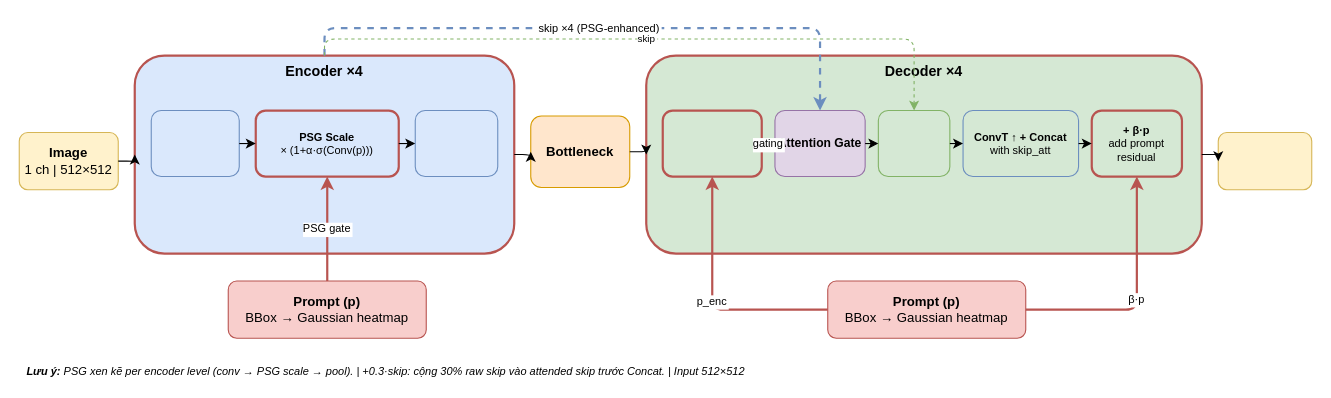
Image size: 1331x398. Some labels were removed from this diagram. The centre of each missing label's shape, as x and y in pixels:
"+ 0.3·skip raw skip residual" belongs at point (913, 143).
"Conv×2" belongs at point (194, 143).
"Mask 1 ch" belongs at point (1264, 160).
"MaxPool ↓" belongs at point (456, 143).
"Prompt Gating g + conf·α·w·p" belongs at point (711, 143).
